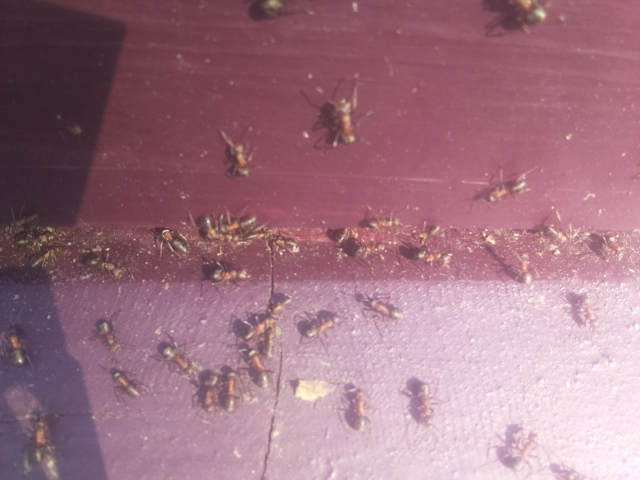ant: (213, 119, 261, 187), (18, 412, 67, 476), (323, 89, 363, 152), (151, 329, 198, 381), (499, 424, 543, 472), (349, 287, 405, 324), (238, 339, 277, 392), (78, 242, 129, 282), (479, 172, 534, 209), (149, 221, 195, 262), (498, 0, 553, 34), (197, 213, 261, 240), (102, 363, 146, 402), (92, 313, 125, 358), (393, 243, 453, 267), (346, 384, 371, 438), (5, 322, 30, 374), (563, 286, 593, 329), (303, 310, 344, 341), (414, 375, 434, 433), (220, 369, 240, 418), (515, 247, 538, 288), (28, 242, 58, 269)
